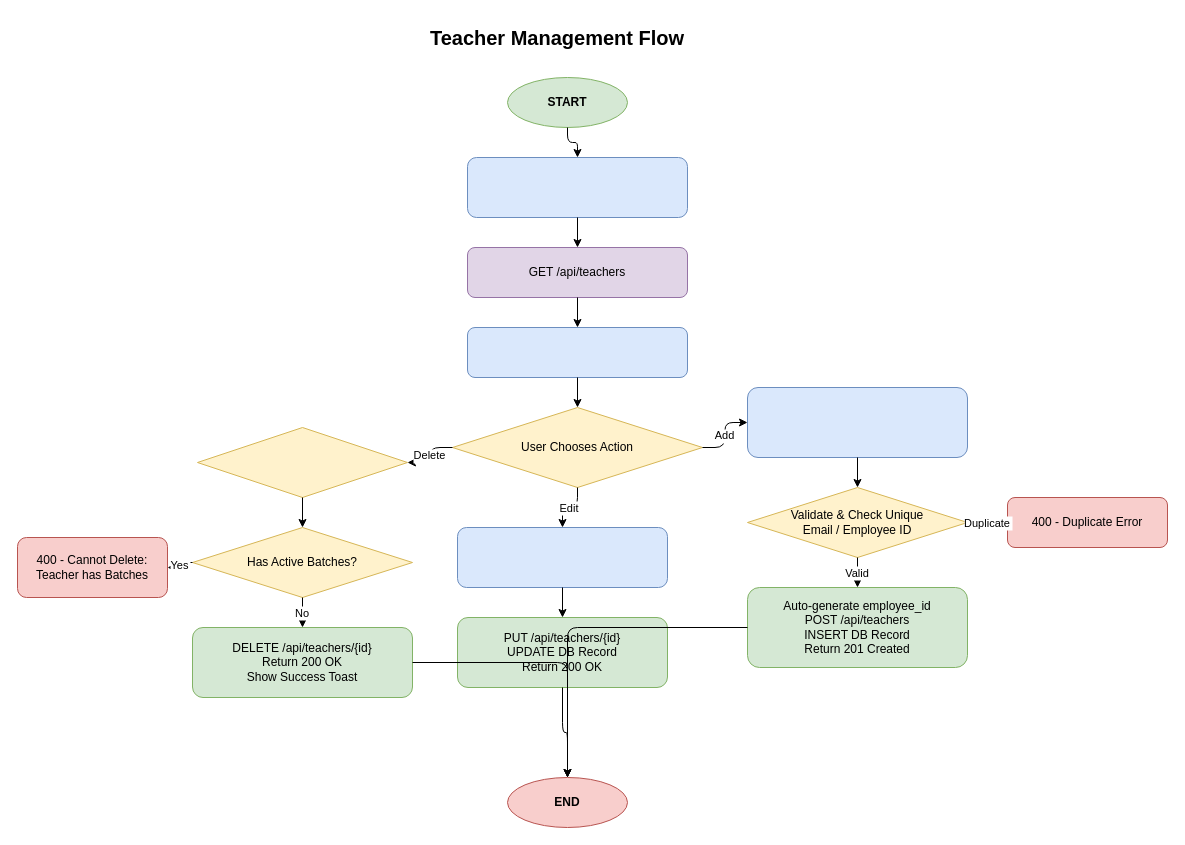
The diagram is 1185 pixels wide and 845 high, and some of its shapes have lost their labels. Each missing label, with the centre of its shape:
"Check if Teacher has Assigned Batches" belongs at point 302,462.
"Display Teacher List" belongs at point 577,352.
"Navigate to Teachers Page (Protected Route)" belongs at point 577,187.
"Pre-fill Edit Form with Teacher Data" belongs at point 562,557.
"Show Add Teacher Form (Name, Email, Phone, Specialization, Hire Date)" belongs at point 857,422.
